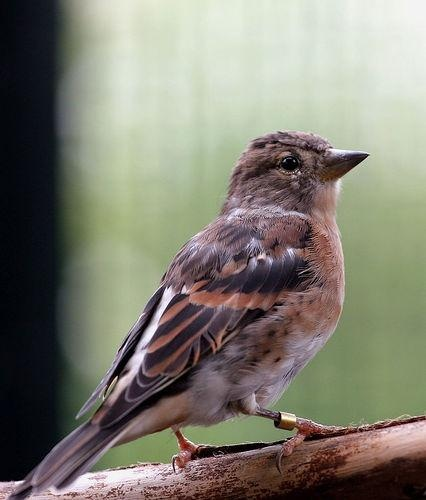bird: (10, 130, 378, 499)
